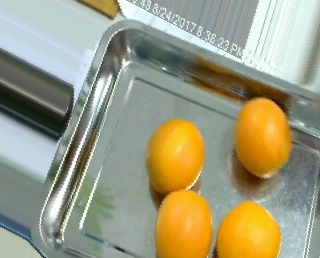Orange: (235, 97, 293, 179), (146, 118, 205, 195), (154, 189, 214, 258), (215, 202, 281, 258)
